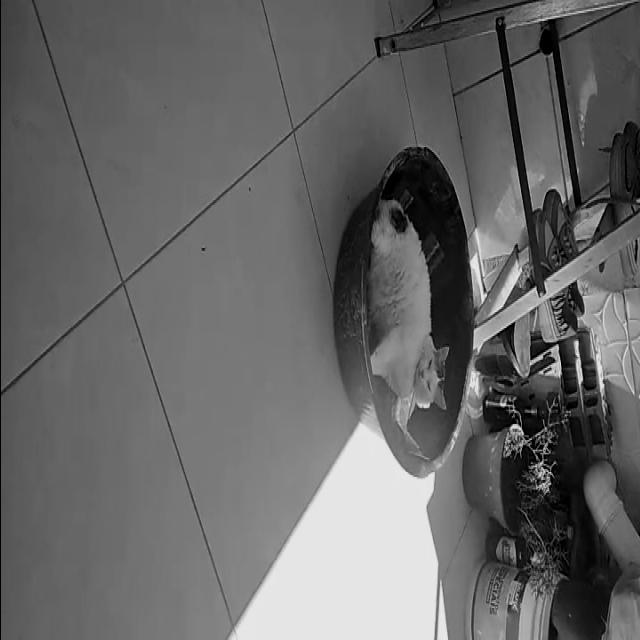Simba: (366, 197, 451, 439)
